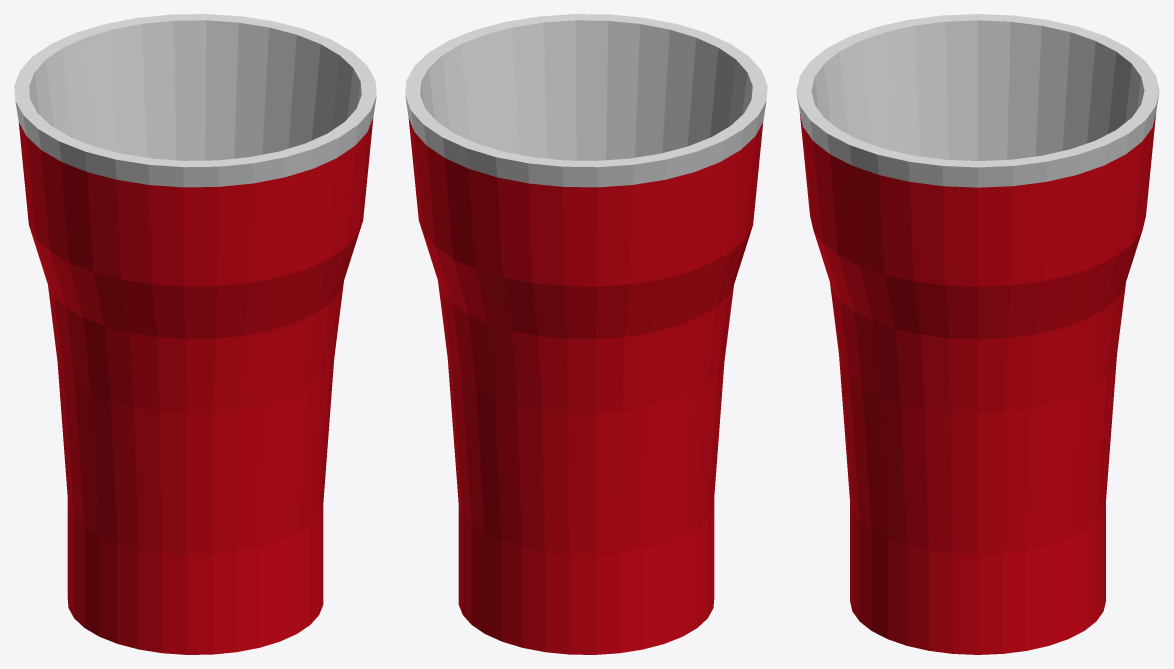
File: CupModel.fbx
3 renders of one model, left to right at view 1: azimuth 30°, elevation 25°; view 2: azimuth 150°, elevation 25°; view 3: azimuth 270°, elevation 25°, orthographic.
Parts seen in each view (by area): view 1: Cylinder; view 2: Cylinder; view 3: Cylinder.
Part boxes in pixels (bbox=[...]): Cylinder: bbox=[14, 14, 376, 654]; Cylinder: bbox=[405, 14, 767, 654]; Cylinder: bbox=[796, 14, 1159, 654].
Bounding box in the file's own units: 2 × 3.1 × 2.
